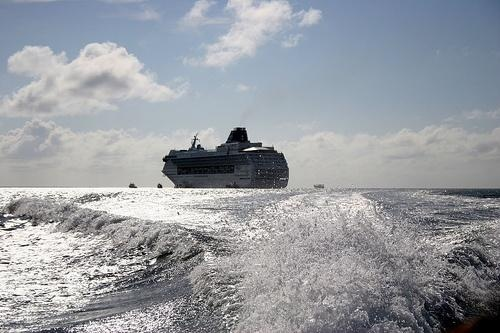boat: (162, 127, 290, 190)
